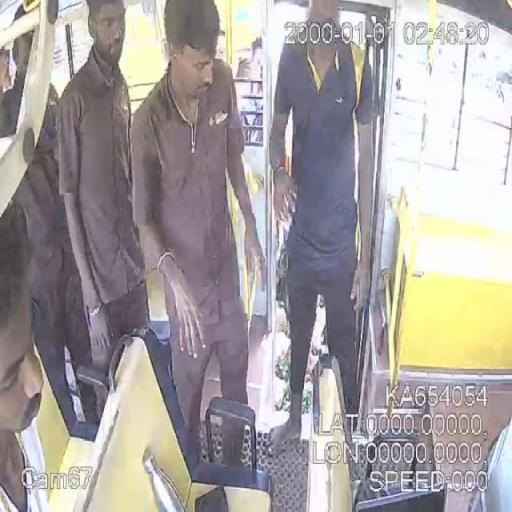persona: (128, 1, 266, 470), (267, 2, 377, 456), (53, 0, 150, 430), (0, 217, 48, 511)
